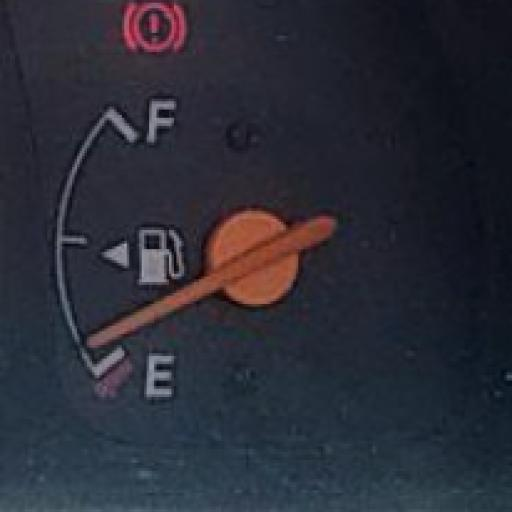empty: (139, 349, 185, 402)
fuel_icon: (136, 215, 186, 287)
full: (141, 84, 183, 155)
guage_area: (40, 64, 347, 437)
needle_center: (196, 202, 302, 312)
needle_tip: (82, 315, 136, 353)
